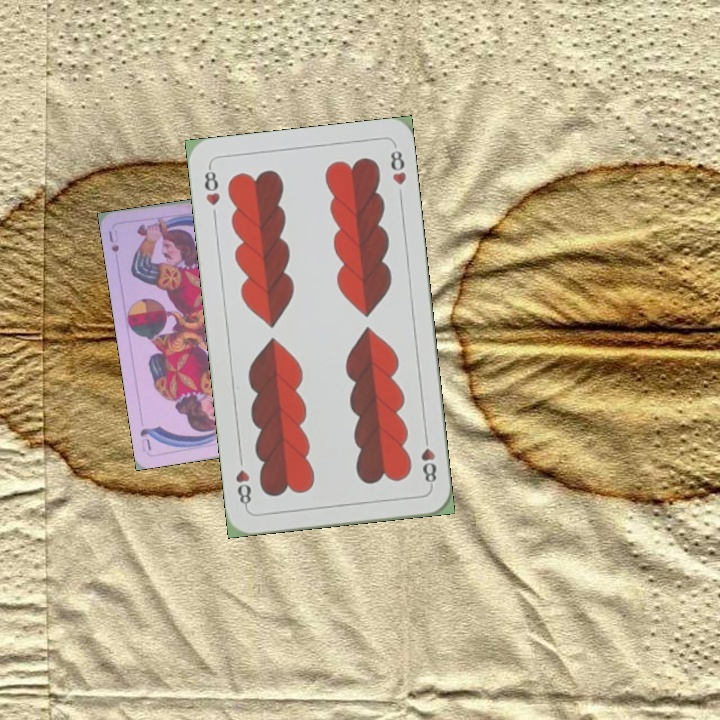H8: (417, 430, 440, 489), (200, 162, 223, 208)
SU: (104, 226, 122, 255)
